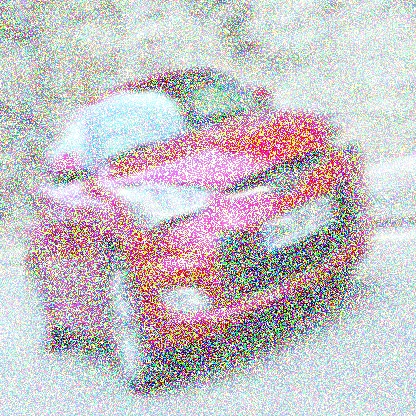Vehicle: (25, 64, 374, 396)
